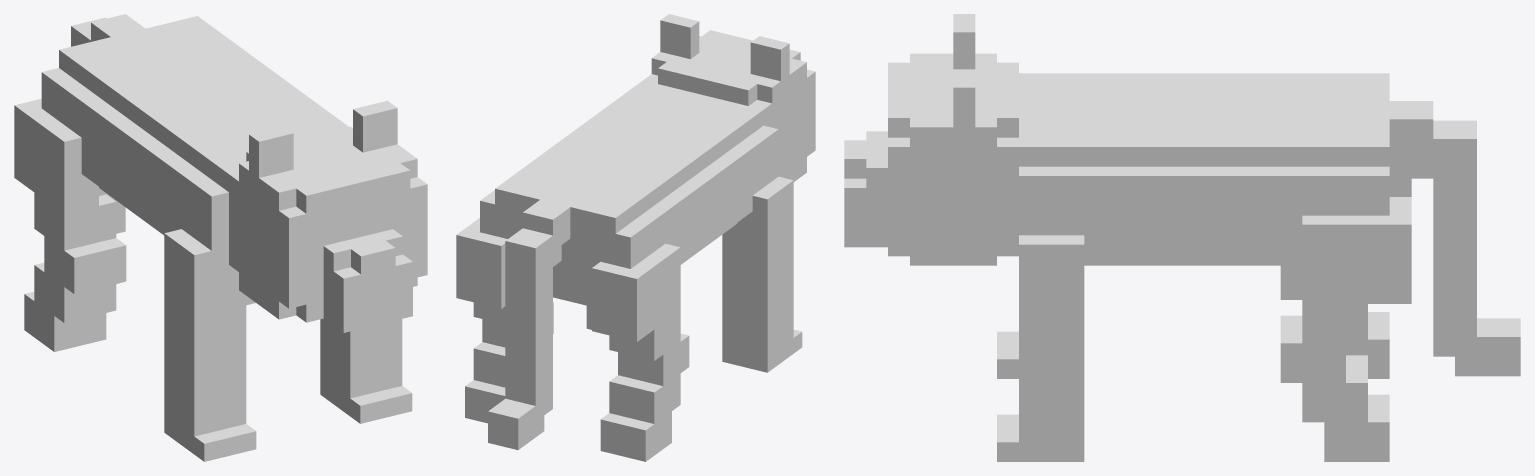
Rendered from black_panthera.fbx.
3 renders of one model, left to right at view 1: azimuth 30°, elevation 25°; view 2: azimuth 150°, elevation 25°; view 3: azimuth 270°, elevation 25°, orthographic. The views are drawn at different scales.
Visible parts, largest first — view 1: black_panthera:Mesh; view 2: black_panthera:Mesh; view 3: black_panthera:Mesh.
Boxes of the visible parts, box(x1,y1,x2,y2) form: black_panthera:Mesh: box(14, 14, 427, 461); black_panthera:Mesh: box(456, 14, 815, 461); black_panthera:Mesh: box(844, 14, 1520, 461).
Bounding box in the file's own units: 1.2 × 1.8 × 3.1.
